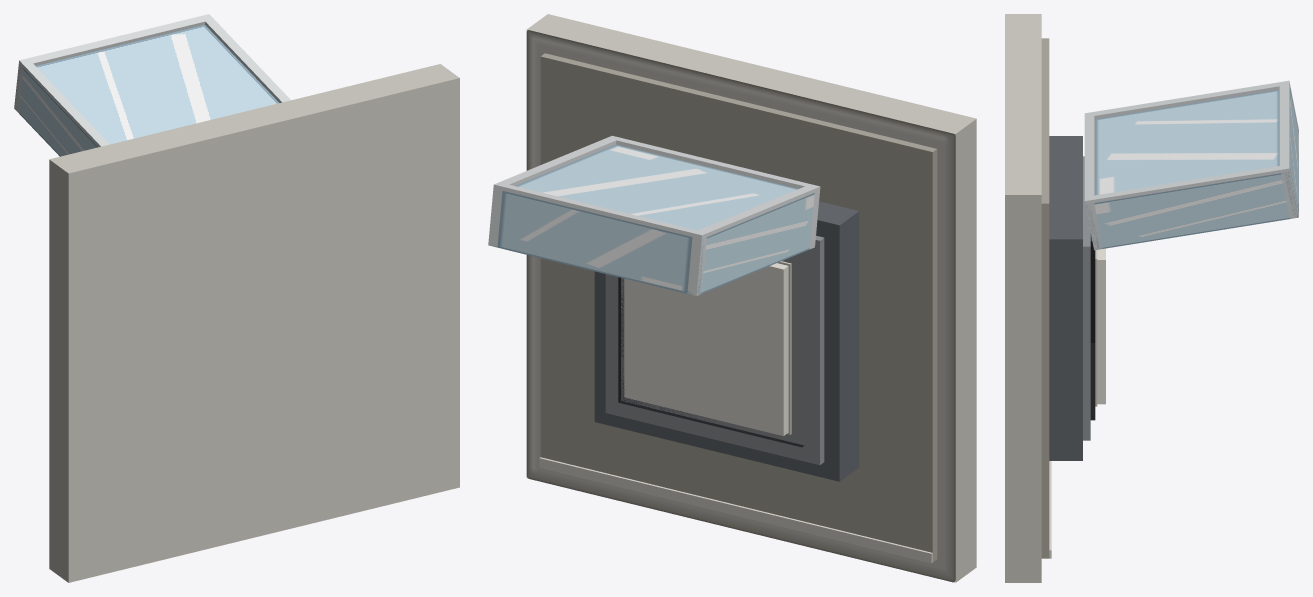
File: cover_button_pressed.obj
3 renders of one model, left to right at view 1: azimuth 30°, elevation 25°; view 2: azimuth 150°, elevation 25°; view 3: azimuth 270°, elevation 25°, orthographic. The views are drawn at different scales.
Parts seen in each view (by area): view 1: Panel, Cover; view 2: Panel, Cover, Base, Button; view 3: Cover, Panel, Base, Button.
Boxes of the visible parts, left/top/right/bottom form: Panel: left=49, top=64, right=459, bottom=582; Cover: left=14, top=14, right=290, bottom=156; Panel: left=526, top=14, right=976, bottom=582; Cover: left=488, top=135, right=820, bottom=295; Base: left=594, top=201, right=859, bottom=481; Button: left=624, top=261, right=791, bottom=435; Cover: left=1084, top=80, right=1298, bottom=250; Panel: left=1005, top=14, right=1051, bottom=582; Base: left=1049, top=136, right=1095, bottom=460; Button: left=1095, top=248, right=1105, bottom=406.
Bounding box in the file's own units: 0.875 × 0.875 × 0.6007.
Materials: 2 (2 with a texture image).
